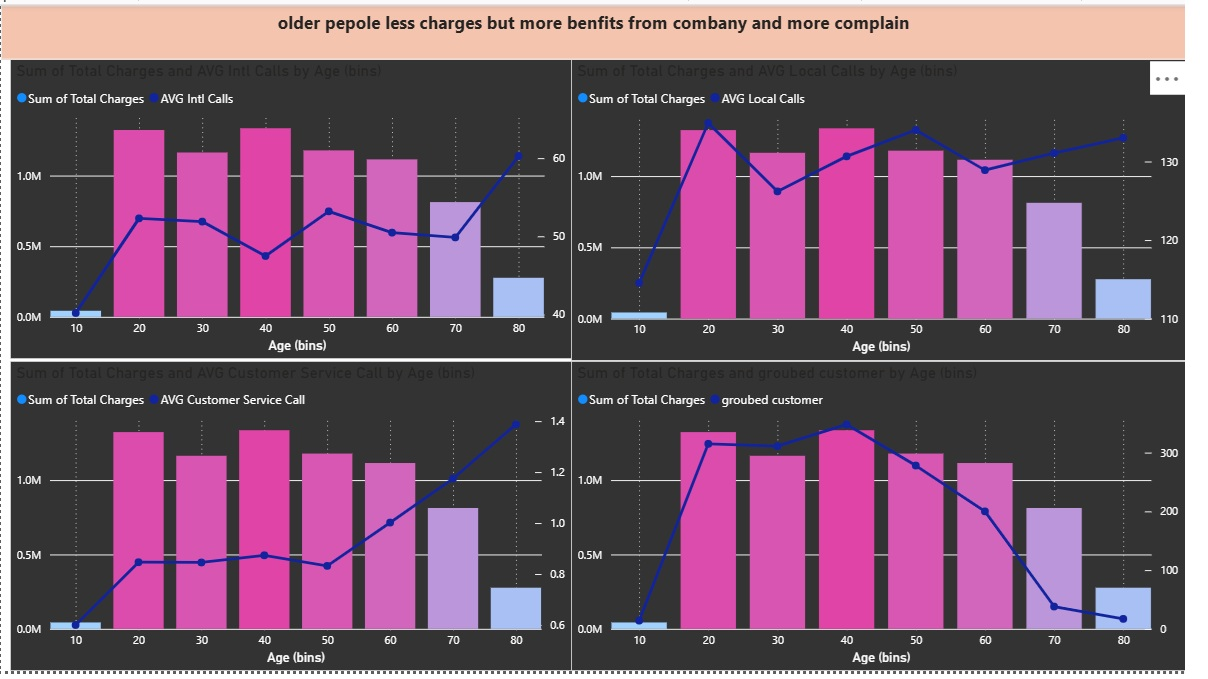

The dashboard page shown, as its layout file describes it:
{"tool":"powerbi","page":{"name":"older pepole","canvas":[1280,720],"ordinal":2},"visuals":[{"type":"lineClusteredColumnComboChart","fields":{"Category":["Databel - Data.Age (bins)"],"Y":["Sum(Databel - Data.Total Charges)"],"Y2":["Databel - Data.AVG Intl Calls"]},"box":[9.4,60.5,606.6,323.2],"z":0},{"type":"lineClusteredColumnComboChart","fields":{"Category":["Databel - Data.Age (bins)"],"Y":["Sum(Databel - Data.Total Charges)"],"Y2":["Databel - Data.AVG Local Calls"]},"box":[616.1,60.5,663.3,325],"z":1000},{"type":"lineClusteredColumnComboChart","fields":{"Category":["Databel - Data.Age (bins)"],"Y":["Sum(Databel - Data.Total Charges)"],"Y2":["Databel - Data.AVG Customer Service Call"]},"box":[9.4,385.5,606.6,334.5],"z":2000},{"type":"lineClusteredColumnComboChart","fields":{"Category":["Databel - Data.Age (bins)"],"Y":["Sum(Databel - Data.Total Charges)"],"Y2":["Databel - Data.groubed customer"]},"box":[616.1,385.5,663.3,334.5],"z":3000},{"type":"textbox","box":[0,1.9,1279.4,58.6],"z":4000}]}

Visuals, with their boxes in screenshot pixels (x1, y1, x2, y2), scaled from the page's 1280x720 canvas onto the 1208x679 screenshot:
lineClusteredColumnComboChart - Databel - Data.Age (bins) x Sum(Databel - Data.Total Charges): bbox=[9, 57, 581, 362]
lineClusteredColumnComboChart - Databel - Data.Age (bins) x Sum(Databel - Data.Total Charges): bbox=[581, 57, 1207, 364]
lineClusteredColumnComboChart - Databel - Data.Age (bins) x Sum(Databel - Data.Total Charges): bbox=[9, 364, 581, 678]
lineClusteredColumnComboChart - Databel - Data.Age (bins) x Sum(Databel - Data.Total Charges): bbox=[581, 364, 1207, 678]
textbox: bbox=[0, 2, 1207, 57]
